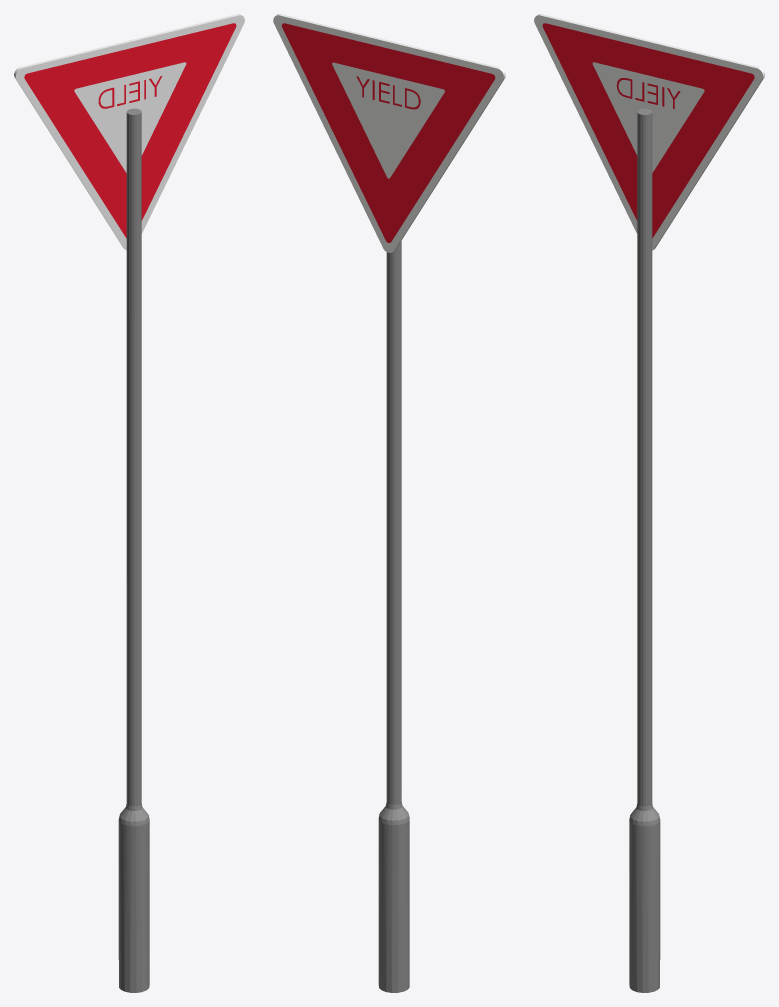
The model's file is yield_sign.gltf.
3 views of the same model, side by side, from view 1: azimuth 30°, elevation 25°; view 2: azimuth 150°, elevation 25°; view 3: azimuth 330°, elevation 25° (orthographic).
Visible parts, largest first — view 1: object_1; view 2: object_1; view 3: object_1.
Boxes of the visible parts, <box> form: object_1: <box>14,14,244,992</box>; object_1: <box>273,14,505,992</box>; object_1: <box>534,14,764,992</box>.
Size of the model in its own units: 0.7394 by 2.91 by 0.0867.
